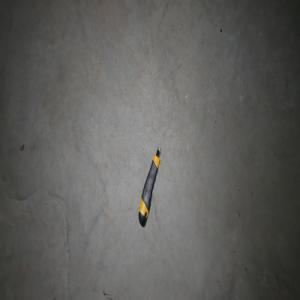Cutter: (138, 147, 161, 228)
